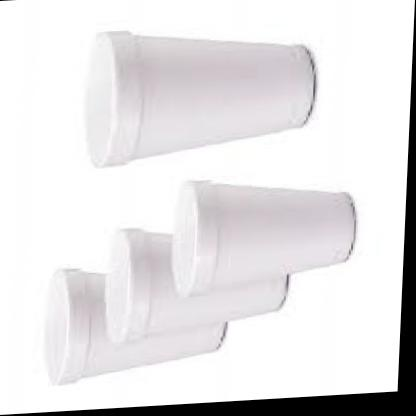Plastic: (4, 0, 416, 393)
